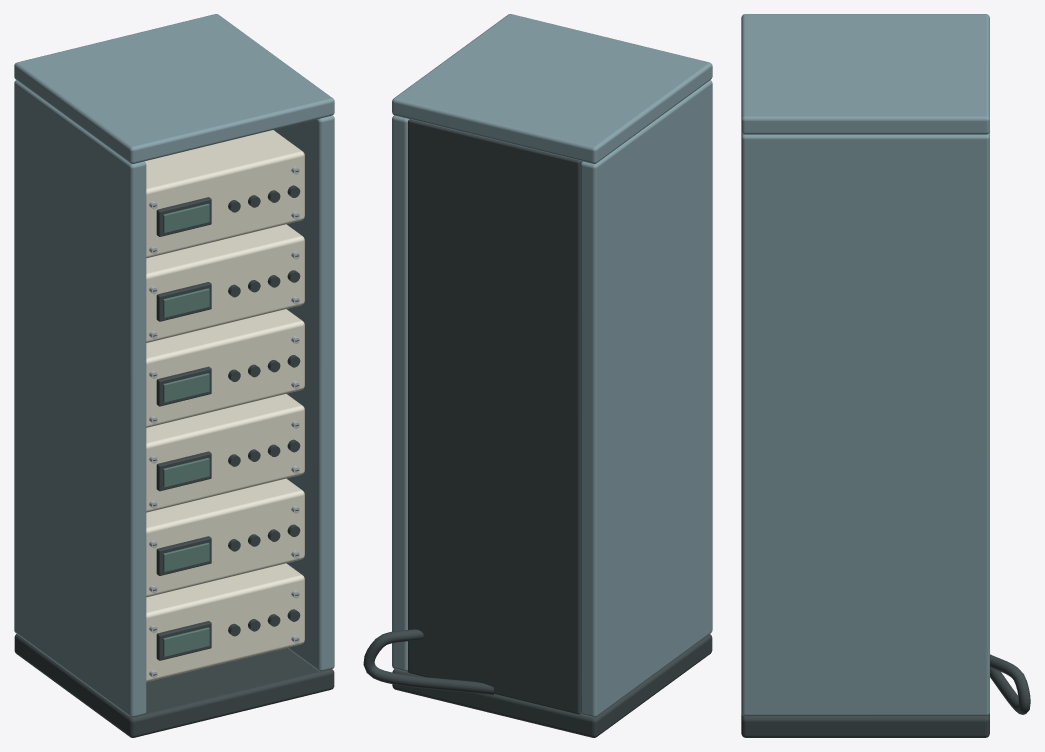
Rendered from abandoned-tidal-model-testing-hall-data-acquisition-ra-dfa59bb1__32370.glb.
3 renders of one model, left to right at view 1: azimuth 30°, elevation 25°; view 2: azimuth 150°, elevation 25°; view 3: azimuth 270°, elevation 25°, orthographic. The views are drawn at different scales.
Visible parts, largest first — view 1: data-acquisition-rack; view 2: data-acquisition-rack; view 3: data-acquisition-rack.
Boxes of the visible parts, x1=… form: data-acquisition-rack: x1=14, y1=14, x2=334, y2=737; data-acquisition-rack: x1=363, y1=14, x2=712, y2=737; data-acquisition-rack: x1=741, y1=14, x2=1030, y2=737.
Size of the model in its own units: 0.65 by 1.71 by 0.7215.
